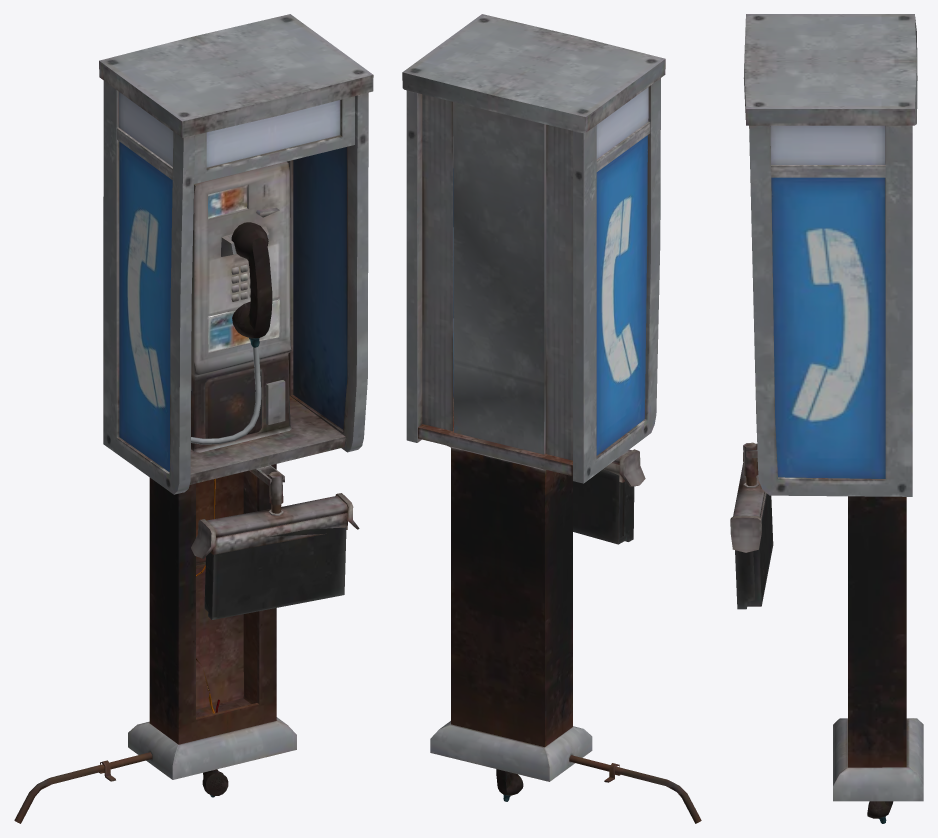
File: phonebooth.static.glb
3 views of the same model, side by side, from view 1: azimuth 30°, elevation 25°; view 2: azimuth 150°, elevation 25°; view 3: azimuth 270°, elevation 25° (orthographic). The views are drawn at different scales.
Visible parts, largest first — view 1: phonebooth, phonebooth_receiver_wire; view 2: phonebooth, phonebooth_receiver; view 3: phonebooth, phonebooth_receiver.
Boxes of the visible parts, x1,y1,x2,y2 form: phonebooth: (14,14,373,823); phonebooth_receiver_wire: (191,222,272,444); phonebooth: (402,14,701,823); phonebooth_receiver: (496,769,523,801); phonebooth: (730,14,923,801); phonebooth_receiver: (867,801,893,823).
Bounding box in the file's own units: 0.7517 × 1.83 × 0.4222.
Materials: 1 (1 with a texture image).
